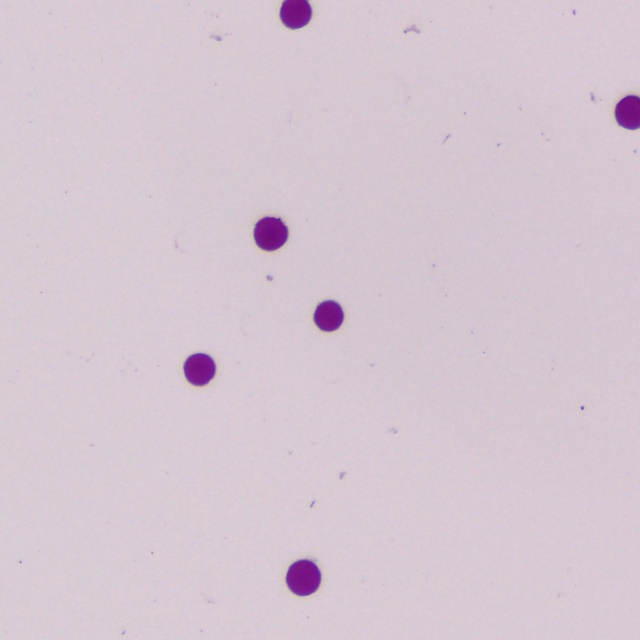viable: (287, 560, 320, 595), (254, 218, 288, 250), (184, 354, 215, 385), (280, 0, 311, 28), (315, 301, 343, 331), (616, 96, 639, 129)
